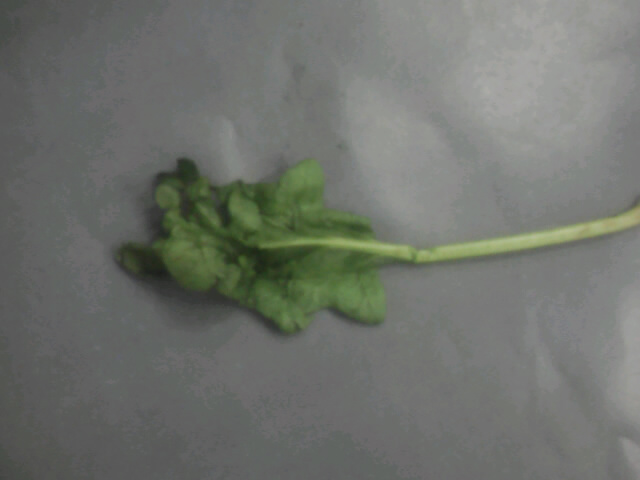yellow: (115, 113, 553, 356)
